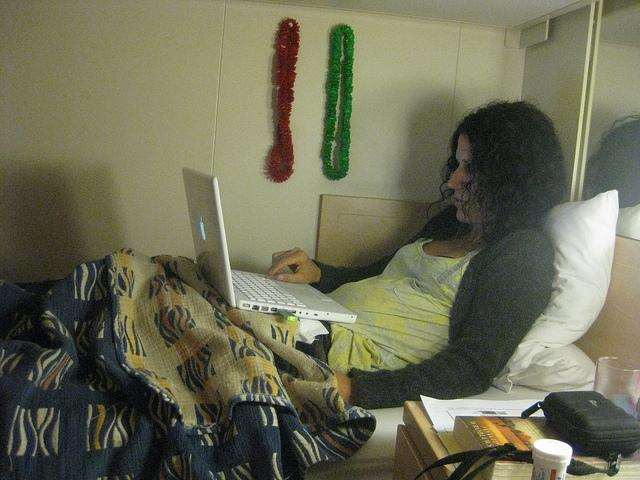apple: (200, 216, 206, 240)
